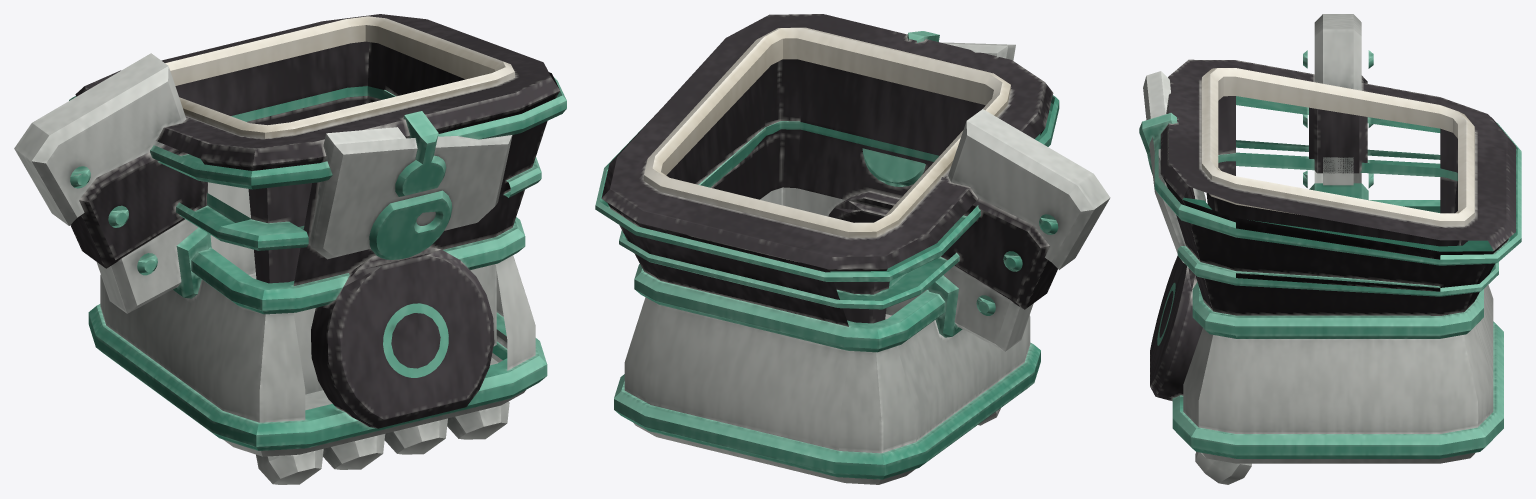
File: Stillpaw Bracers_L.fbx
3 views of the same model, side by side, from view 1: azimuth 30°, elevation 25°; view 2: azimuth 150°, elevation 25°; view 3: azimuth 270°, elevation 25° (orthographic). The views are drawn at different scales.
Parts seen in each view (by area): view 1: Stillpaw Bracers_L; view 2: Stillpaw Bracers_L; view 3: Stillpaw Bracers_L.
Boxes of the visible parts, x1=… form: Stillpaw Bracers_L: x1=14, y1=14, x2=566, y2=484; Stillpaw Bracers_L: x1=595, y1=14, x2=1110, y2=484; Stillpaw Bracers_L: x1=1139, y1=14, x2=1521, y2=484.
Size of the model in its own units: 2.05 by 1.62 by 1.63.
